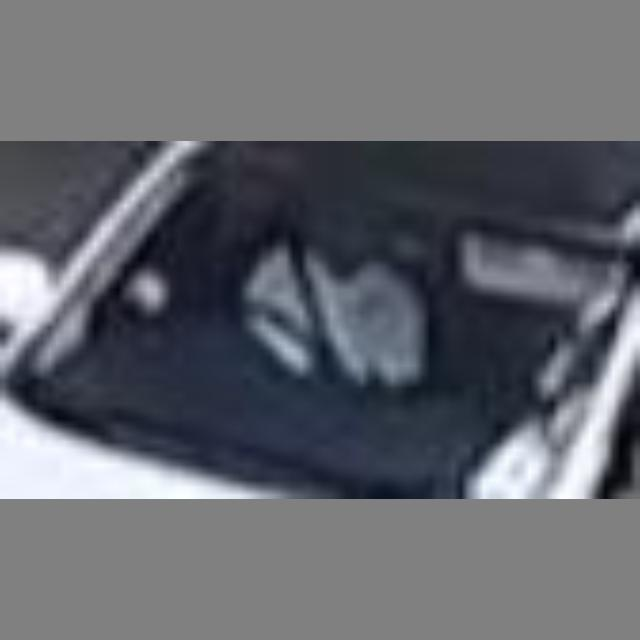pakai: (221, 232, 419, 453)
